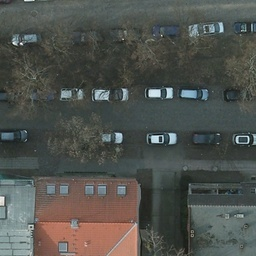car: (91, 85, 130, 104), (189, 21, 225, 39), (23, 83, 59, 101), (72, 26, 106, 44), (150, 24, 182, 41), (10, 32, 42, 48), (179, 84, 209, 101), (1, 126, 27, 144), (146, 131, 177, 146), (192, 131, 223, 146), (111, 28, 141, 43), (142, 85, 174, 99), (92, 131, 123, 145), (231, 130, 256, 147), (59, 87, 85, 103), (231, 20, 256, 33), (1, 89, 15, 102)
